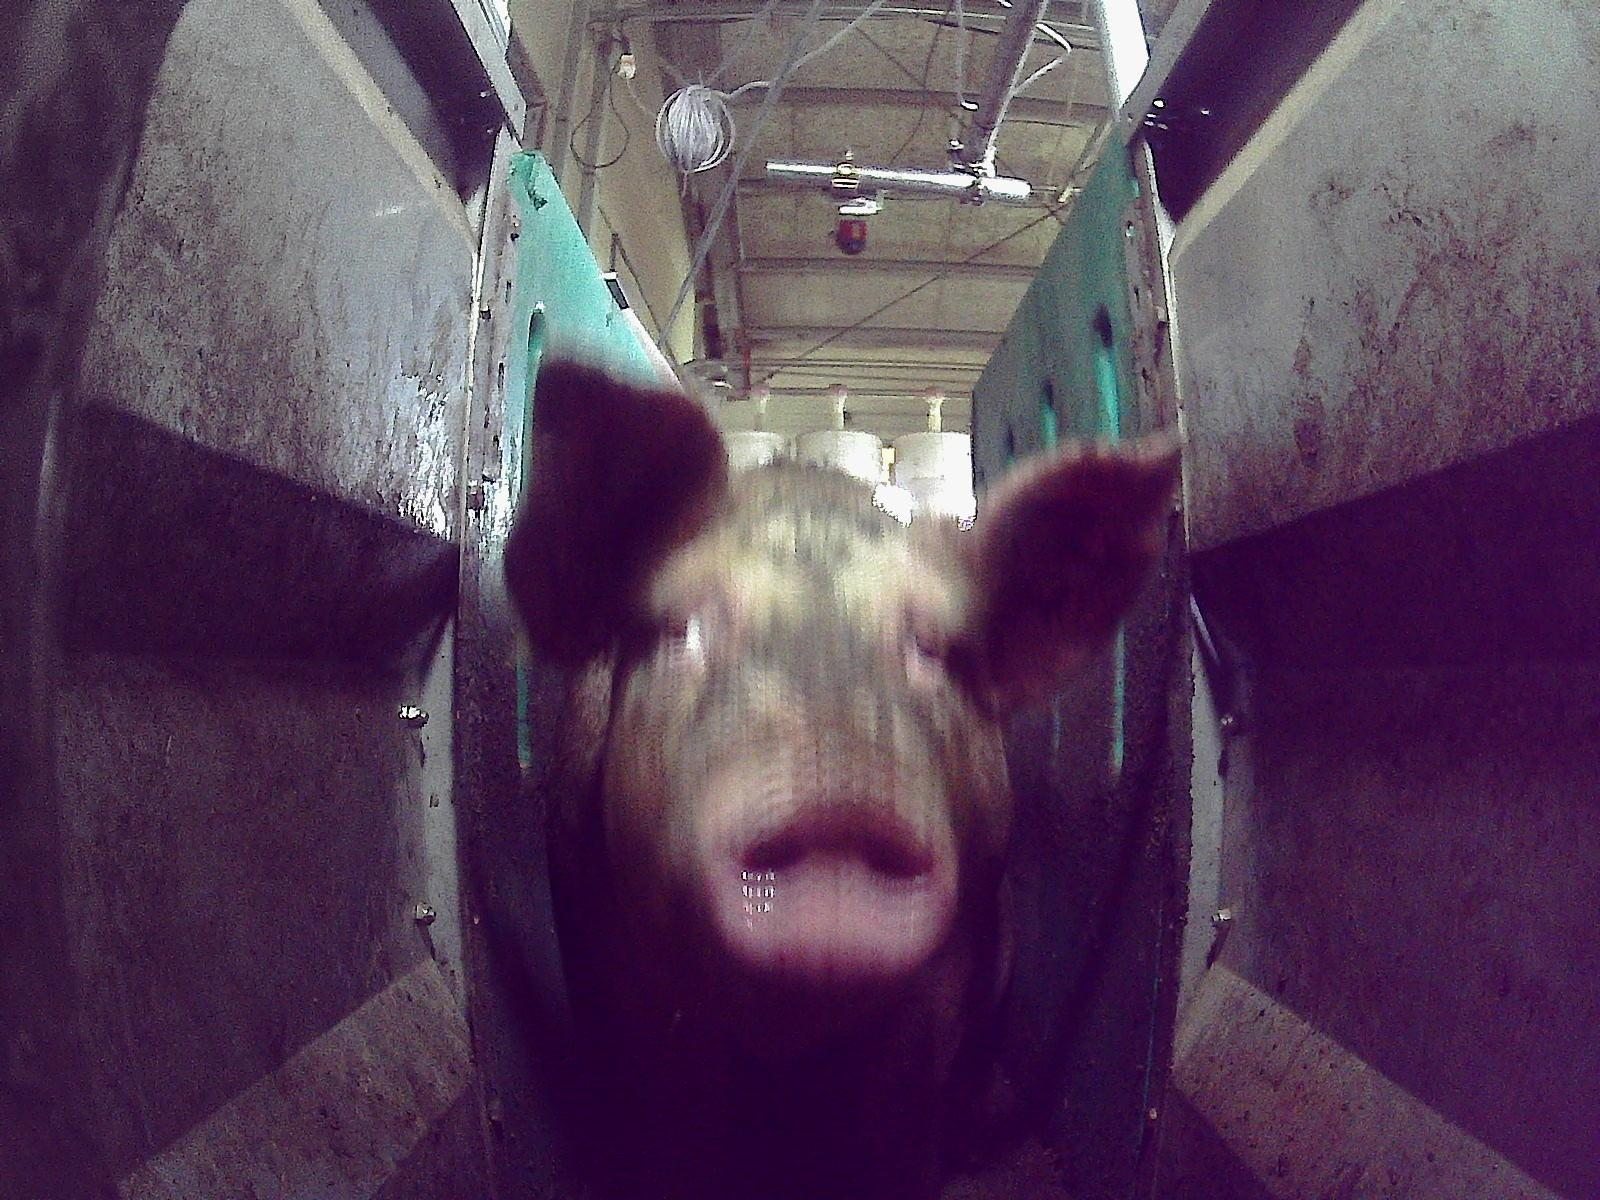Face: (585, 461, 1015, 1059)
